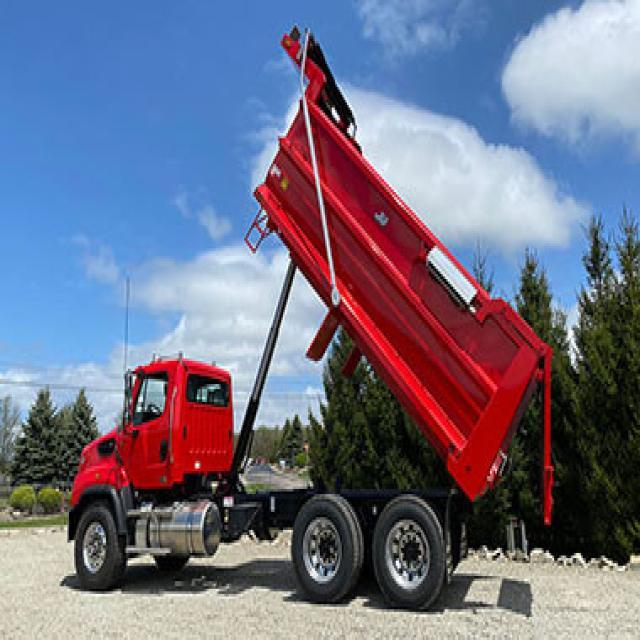traffic light: (66, 21, 554, 610)
